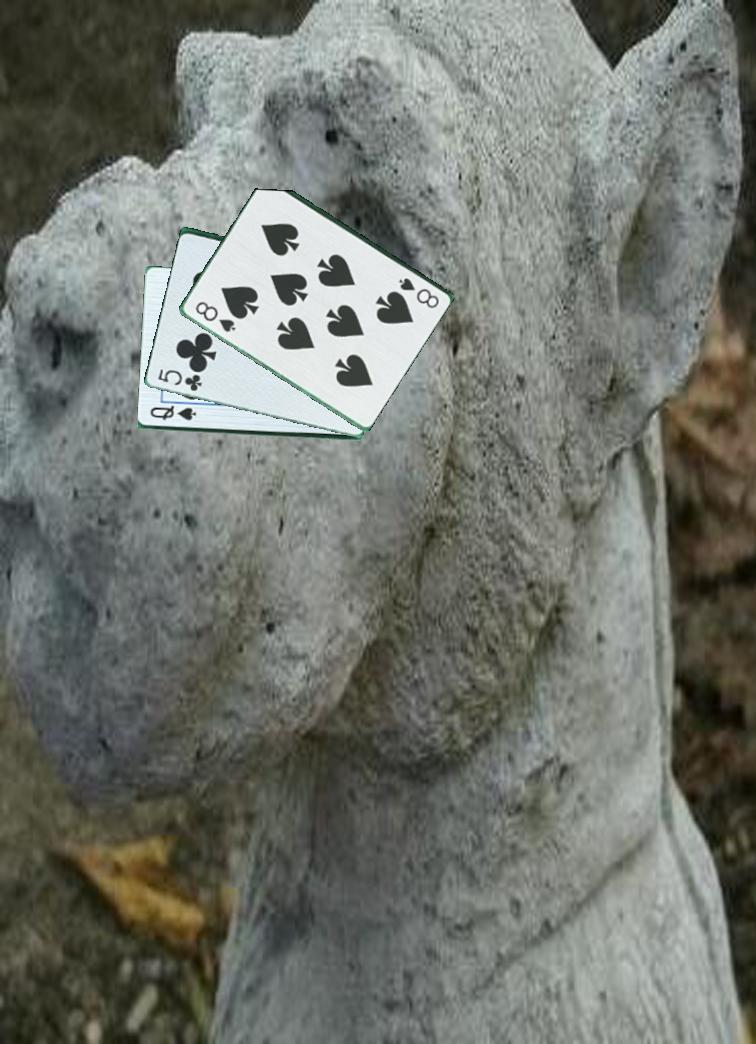5c: (154, 366, 204, 397)
8s: (191, 292, 238, 335), (393, 274, 442, 311)
qs: (146, 404, 198, 424)
